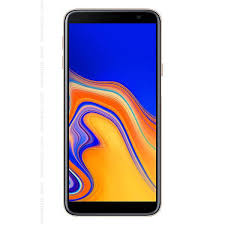samsung: (61, 5, 165, 218)
